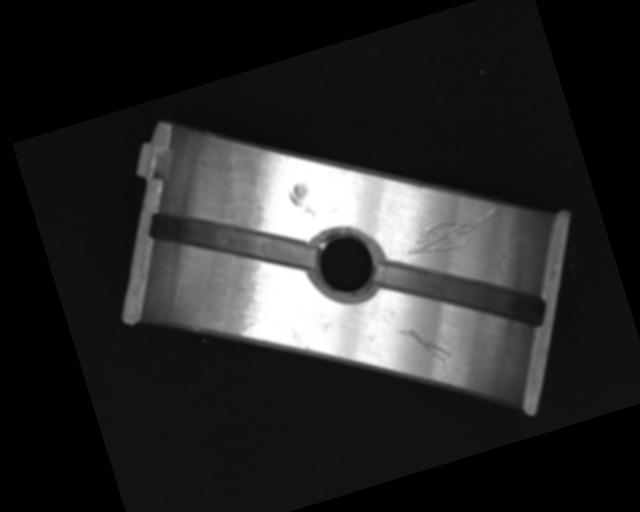bruise: (285, 179, 318, 224)
gap: (373, 221, 548, 365), (146, 173, 316, 311)
hole: (300, 219, 392, 308)
nick: (401, 203, 504, 264), (399, 315, 453, 371)
